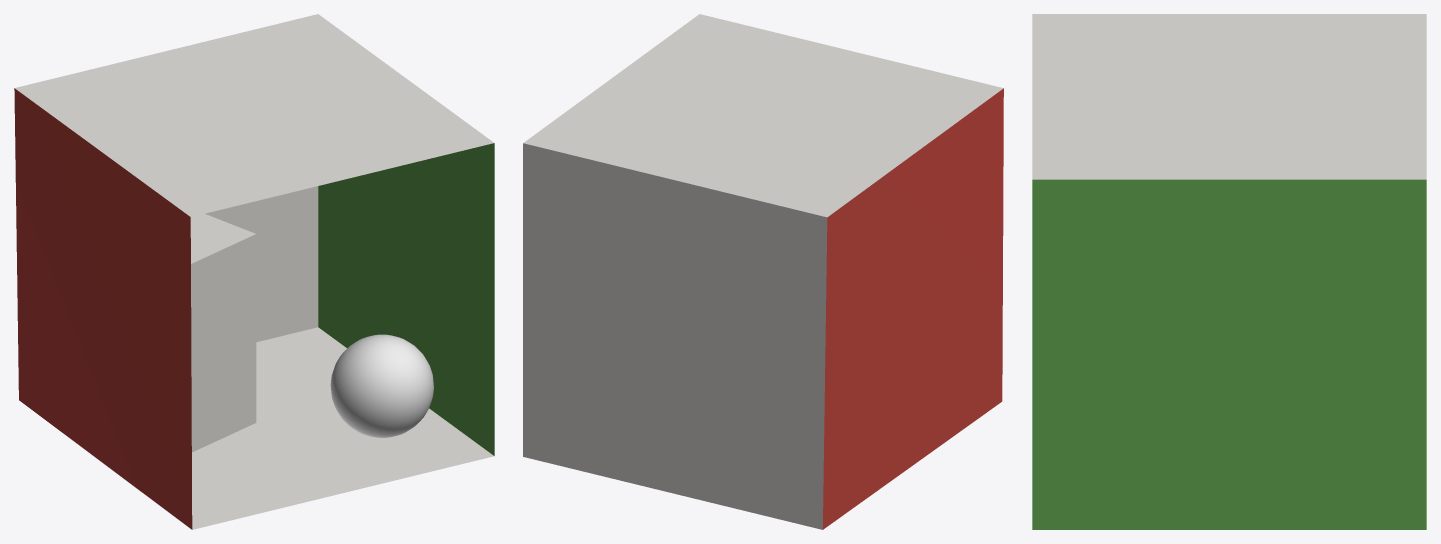
File: cornell_box_sphere.glb
3 renders of one model, left to right at view 1: azimuth 30°, elevation 25°; view 2: azimuth 150°, elevation 25°; view 3: azimuth 270°, elevation 25°, orthographic. The views are drawn at different scales.
Visible parts, largest first — view 1: Object_5, Object_3, Object_7, Object_4, Object_9, Object_2, Sphere; view 2: Object_2, Object_5, Object_3; view 3: Object_7, Object_3.
Boxes of the visible parts, <box> form: Object_5: <box>14,88,192,529</box>; Object_3: <box>15,14,493,216</box>; Object_7: <box>318,143,494,455</box>; Object_4: <box>192,327,493,529</box>; Object_9: <box>190,213,256,452</box>; Object_2: <box>205,186,318,342</box>; Sphere: <box>330,334,433,437</box>; Object_2: <box>523,143,827,529</box>; Object_5: <box>823,88,1003,529</box>; Object_3: <box>523,14,1003,217</box>; Object_7: <box>1032,179,1426,529</box>; Object_3: <box>1032,14,1426,179</box>.
Size of the model in its own units: 1.75 by 1.72 by 1.76.
